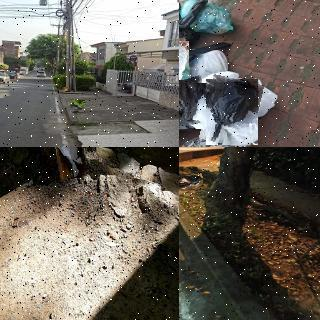Garbage: (202, 77, 261, 147), (193, 73, 279, 119), (180, 0, 235, 35), (179, 79, 210, 132), (41, 147, 84, 179), (188, 49, 232, 79), (179, 136, 249, 147), (179, 174, 203, 191), (71, 100, 86, 112), (70, 103, 84, 113), (61, 87, 68, 92)
